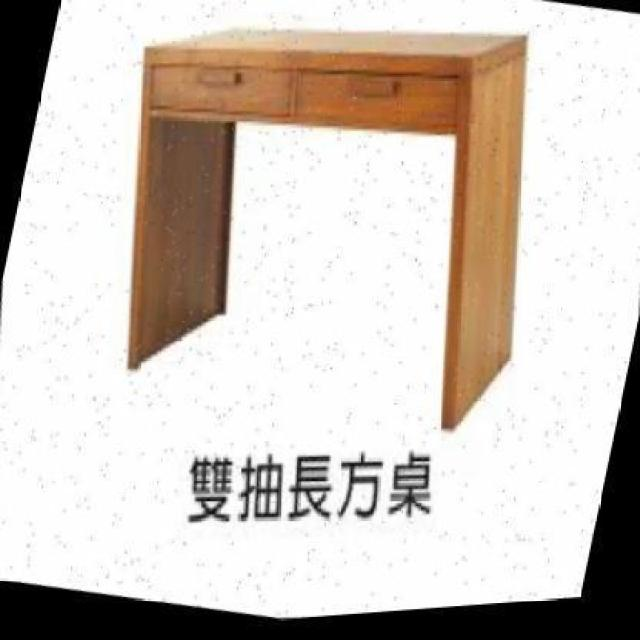tables: (125, 26, 528, 429)
